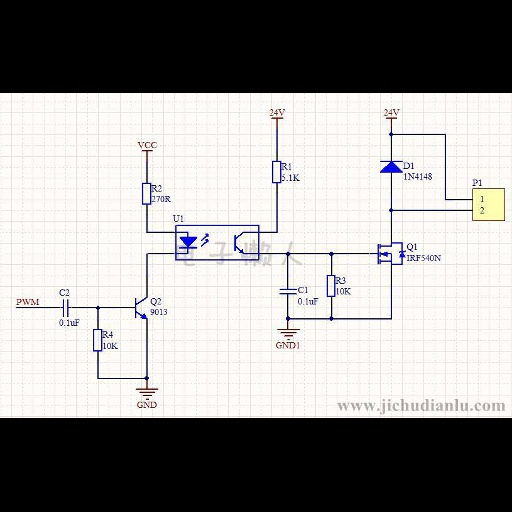capacitor: (58, 298, 76, 318), (276, 287, 298, 298)
firstdiode: (374, 157, 405, 178)
firstled: (177, 233, 213, 252)
firstresistance: (90, 325, 103, 357), (138, 180, 152, 209), (269, 157, 282, 187), (324, 271, 336, 301)
gnd: (132, 386, 162, 401), (273, 327, 303, 341)
mos: (378, 241, 393, 268)
npn: (126, 293, 150, 326)
